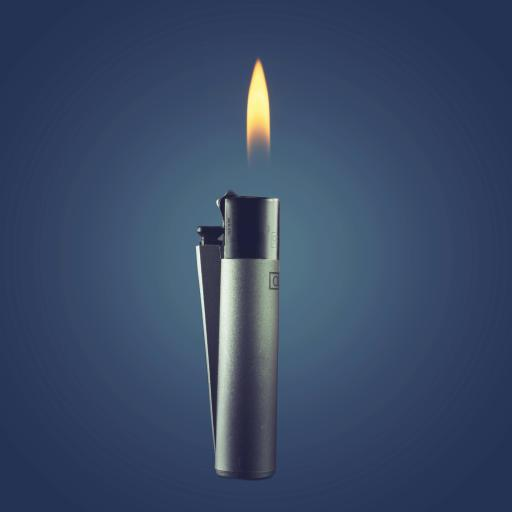lighter: (167, 52, 363, 488)
